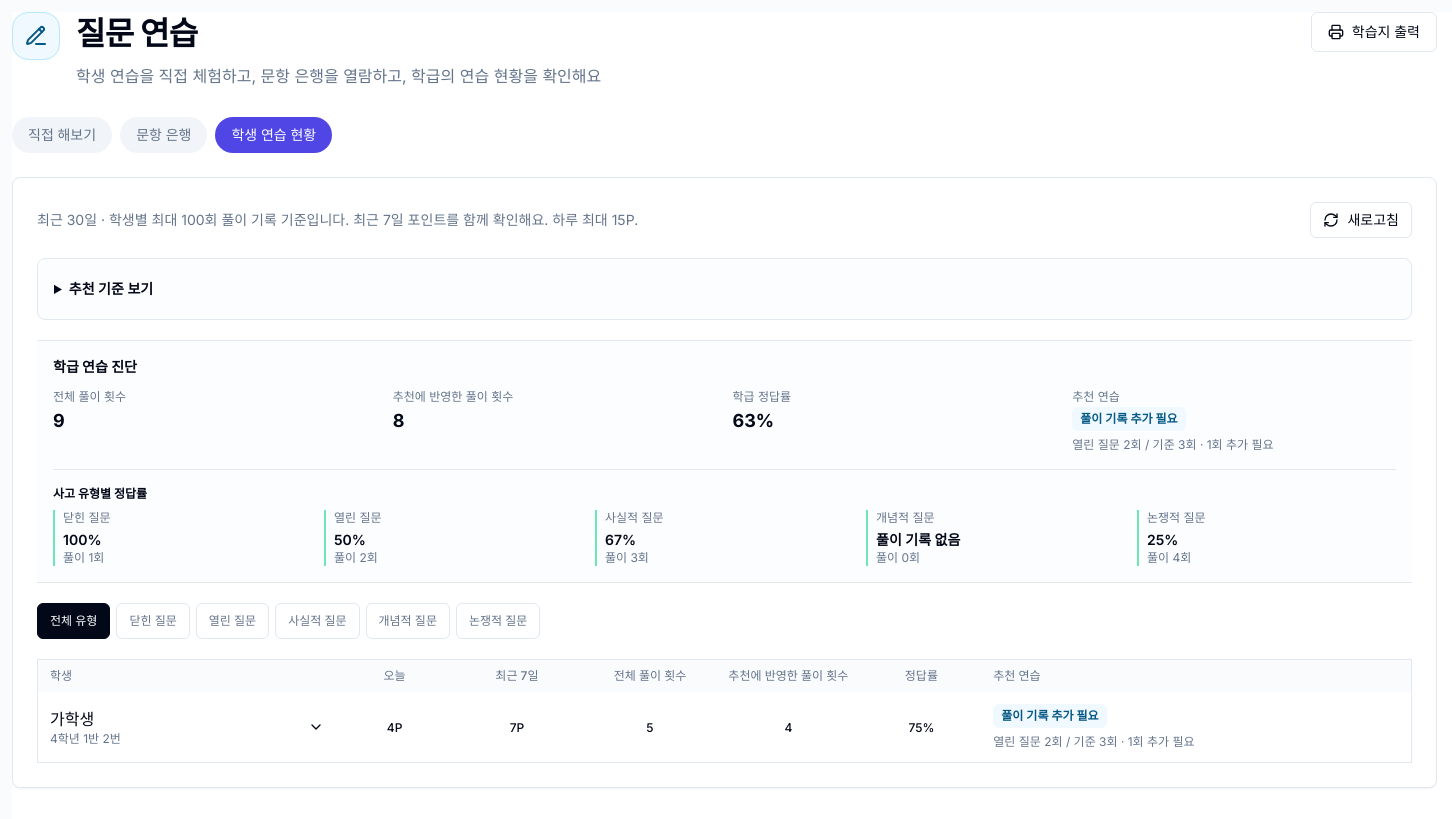
Test case: 교사 학급 연습 진단 › 학생 주소 복사 실패를 화면에 알린다
Click the button "개념적 질문": click(408, 621) [366,603,450,639]
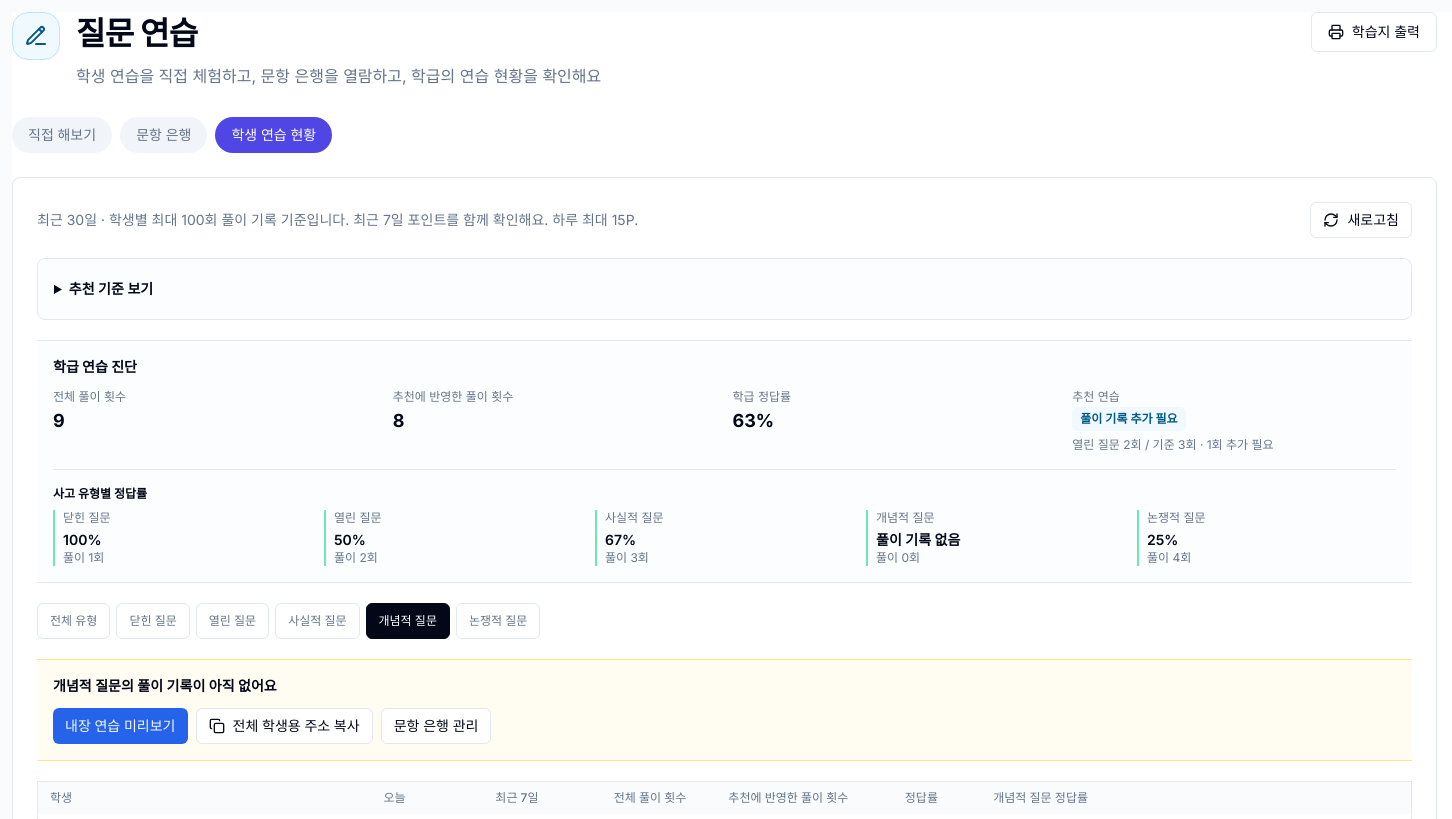
Click the button "전체 학생용 주소 복사": click(284, 726) [196,708,373,744]
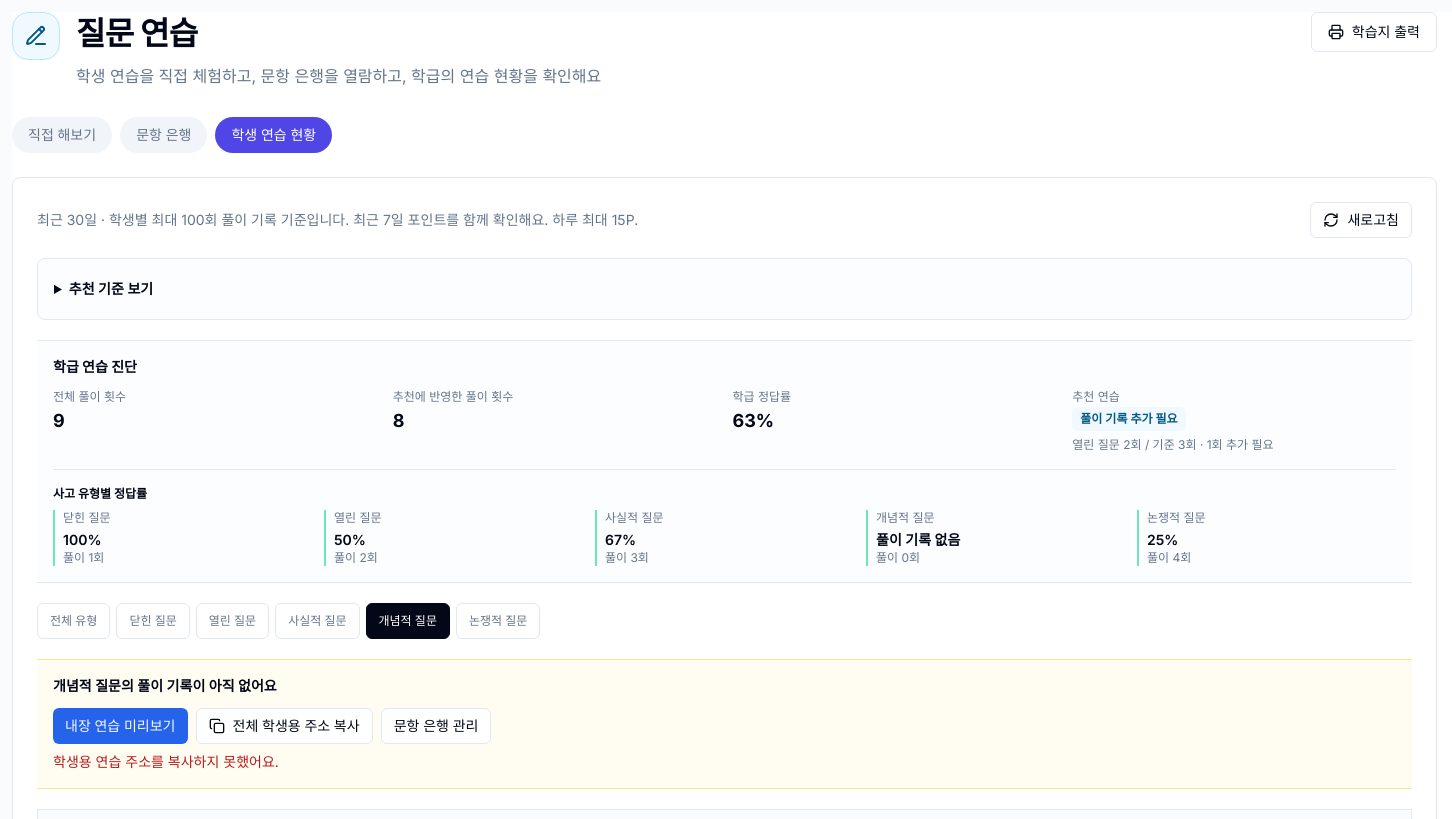
Result: the message shows "학생용 연습 주소를 복사하지 못했어요" at [53,753,279,770]
